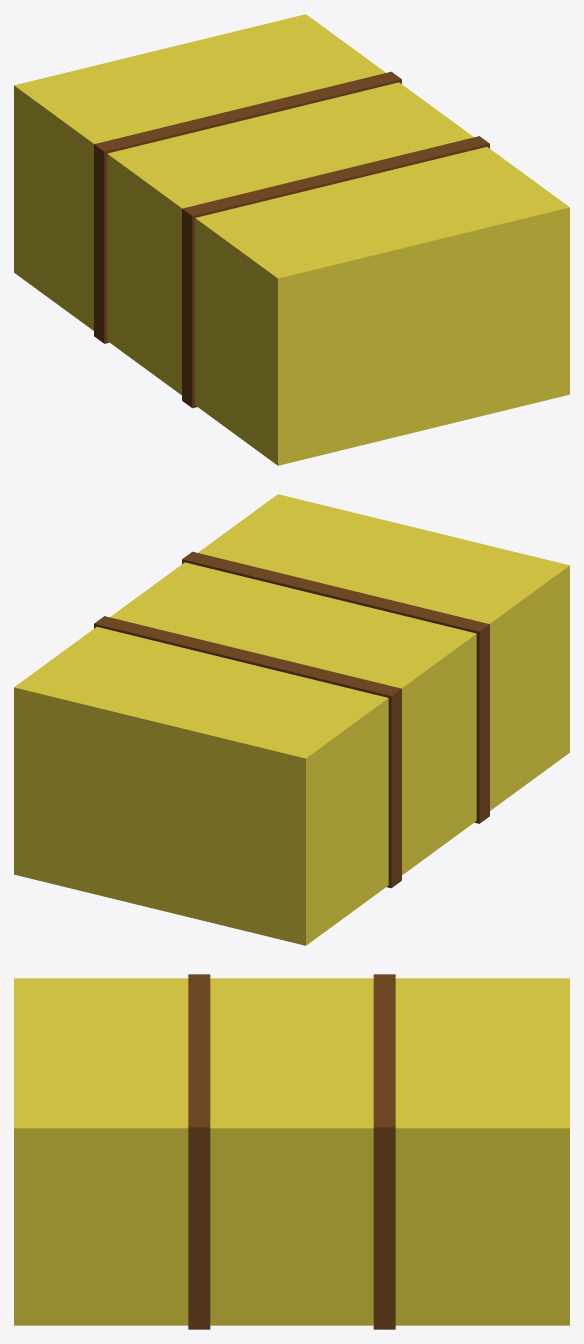
File: Bale.fbx
3 views of the same model, one above another, from view 1: azimuth 30°, elevation 25°; view 2: azimuth 150°, elevation 25°; view 3: azimuth 270°, elevation 25° (orthographic). The views are drawn at different scales.
Parts seen in each view (by area): view 1: Cube.002; view 2: Cube.002; view 3: Cube.002.
Boxes of the visible parts, x1,y1,x2,y2 form: Cube.002: [14, 14, 569, 465]; Cube.002: [14, 494, 569, 945]; Cube.002: [14, 974, 569, 1329].
Bounding box in the file's own units: 840 × 519 × 1292.
